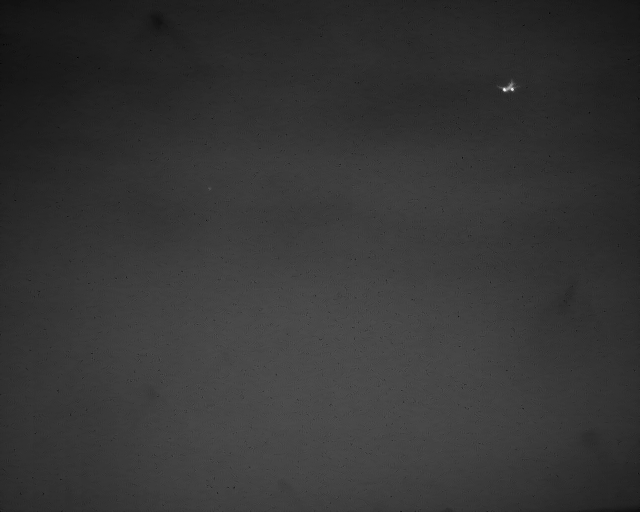Target: (498, 80, 521, 94)
